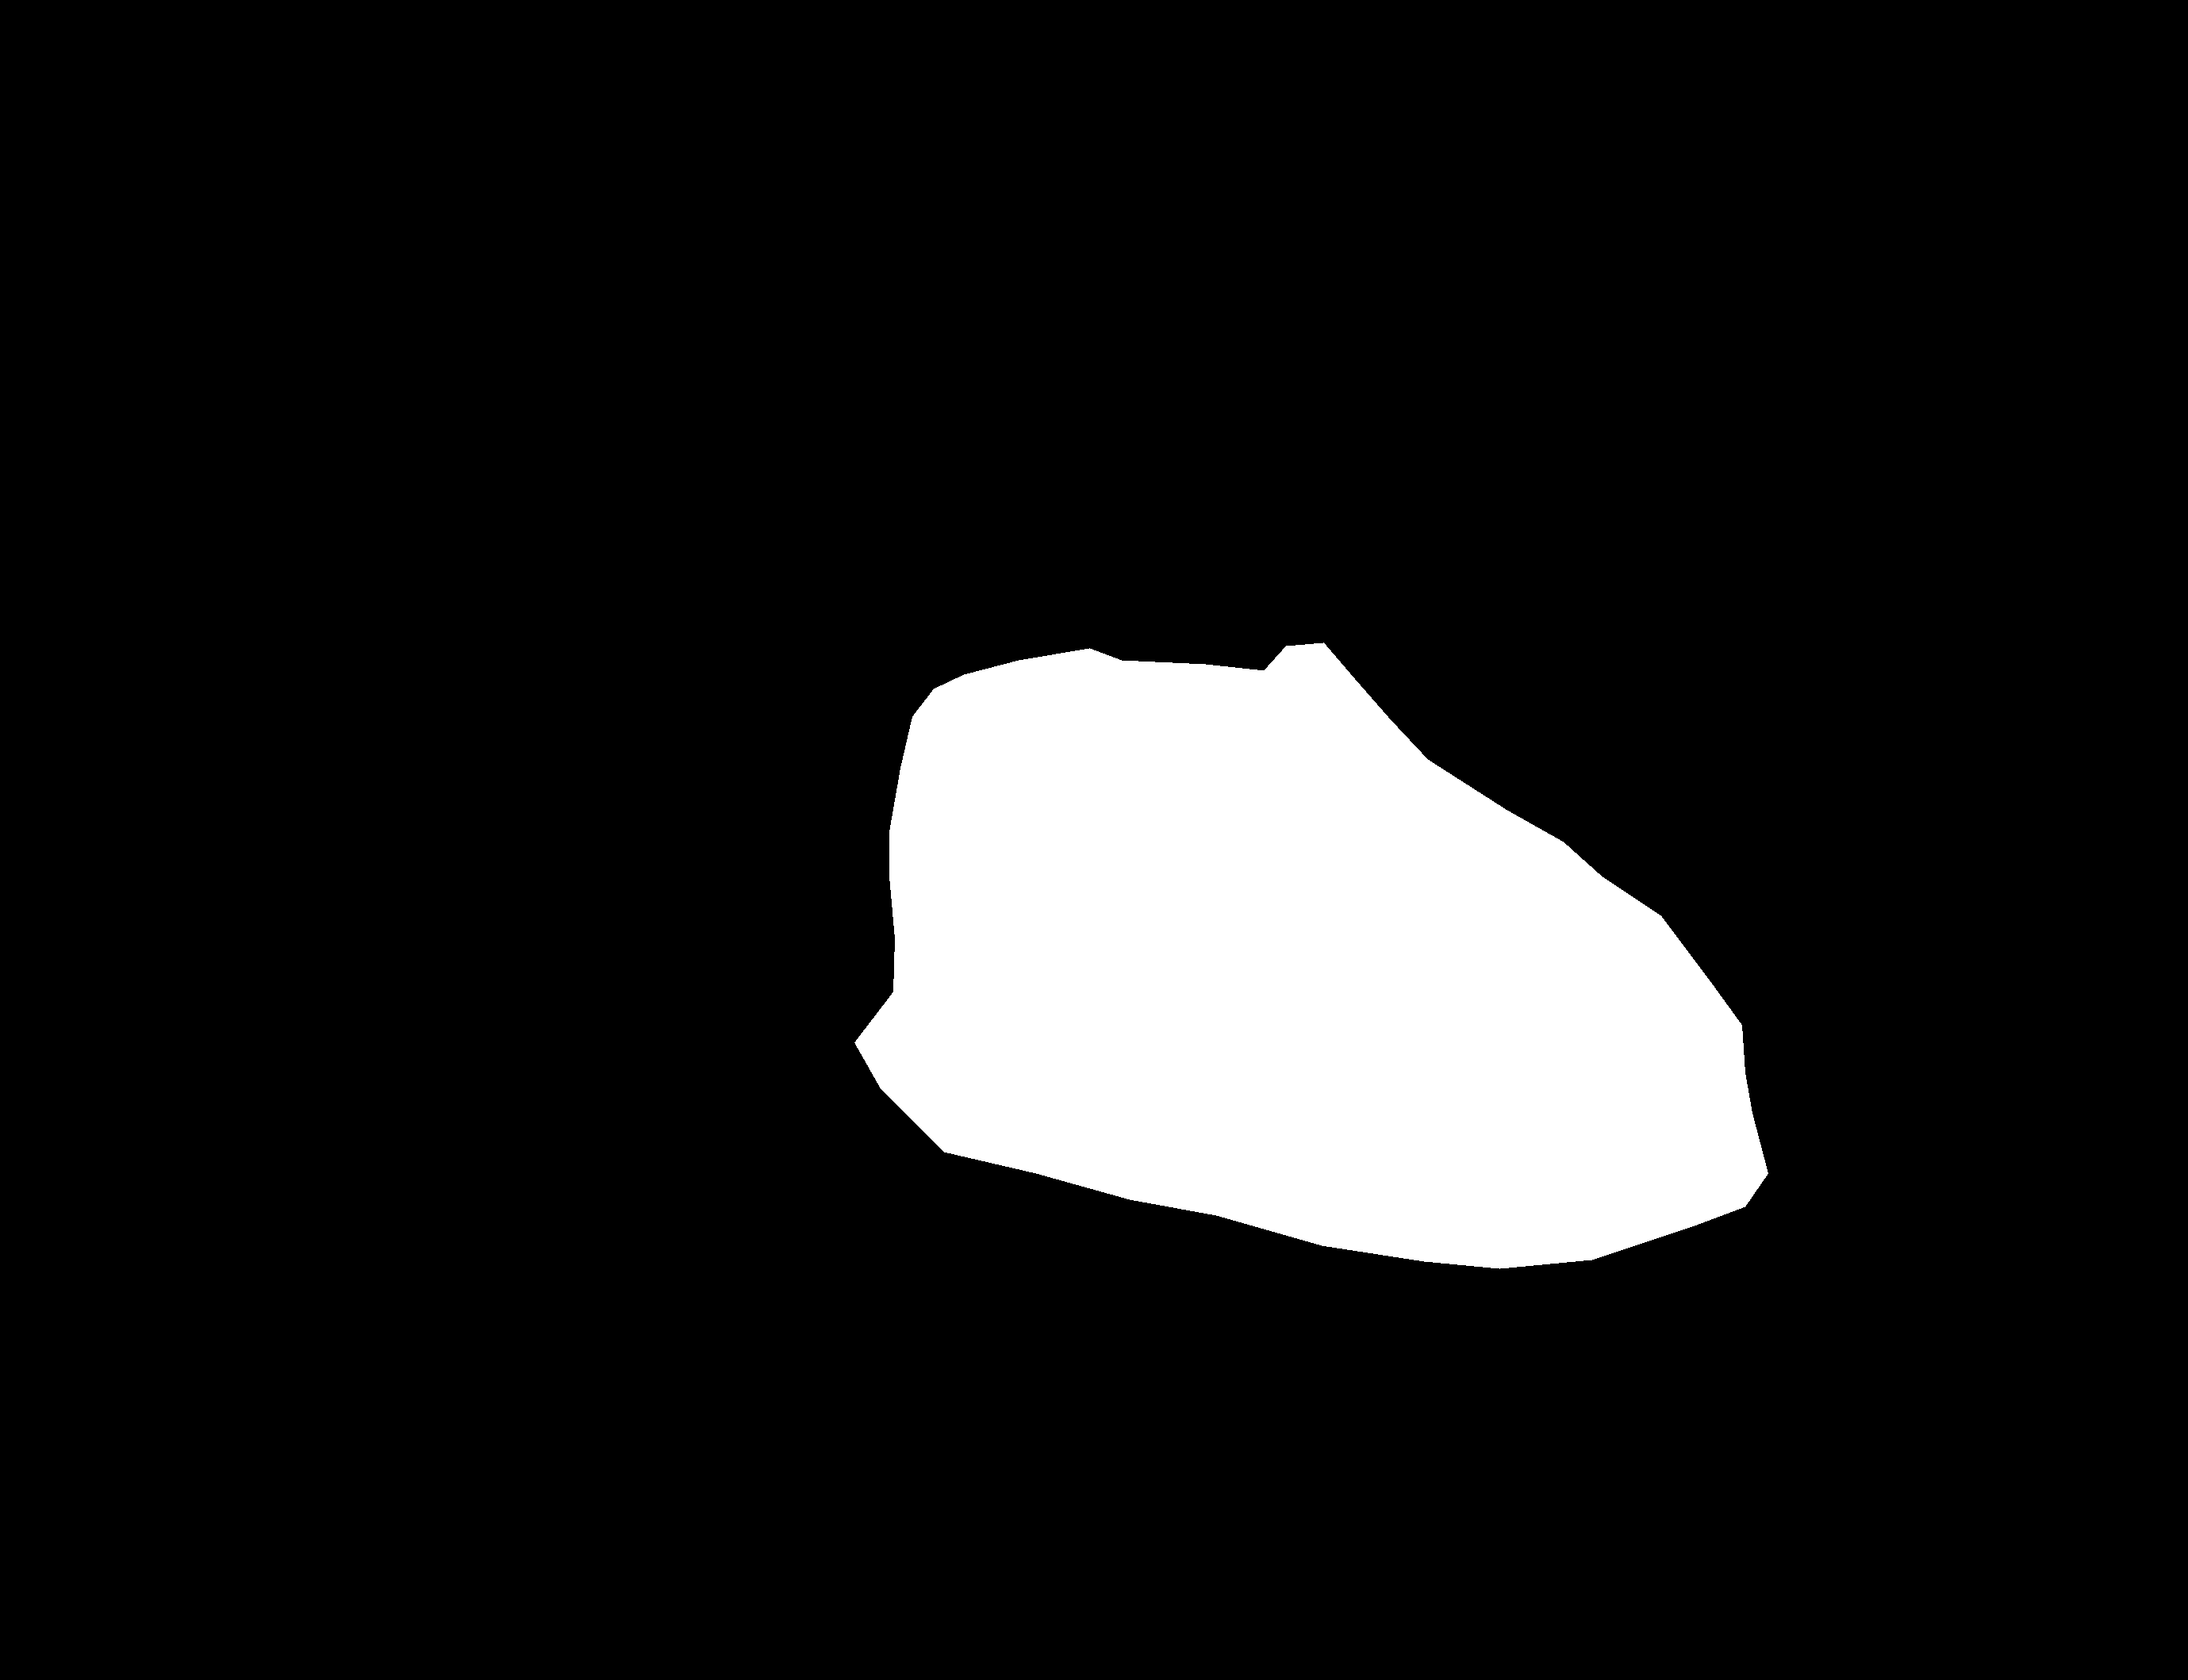heart: (854, 642, 1768, 1269)
left_lung: (242, 136, 960, 1166)
right_lung: (1159, 157, 1888, 1285)
